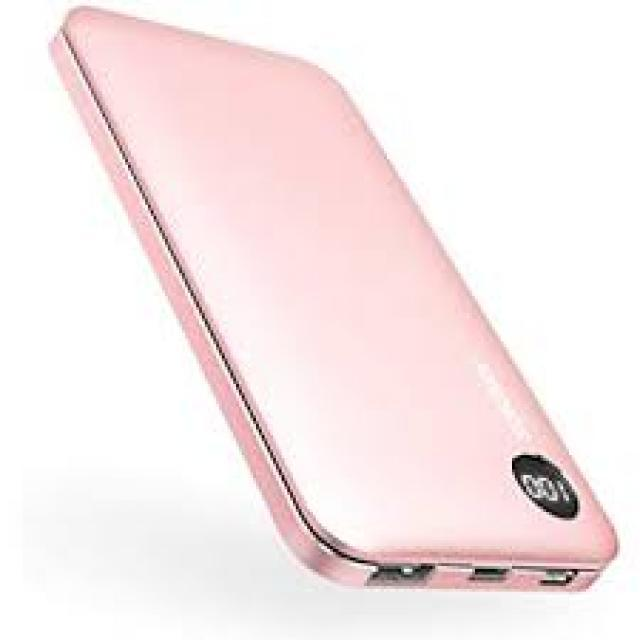battery: (50, 10, 620, 594)
